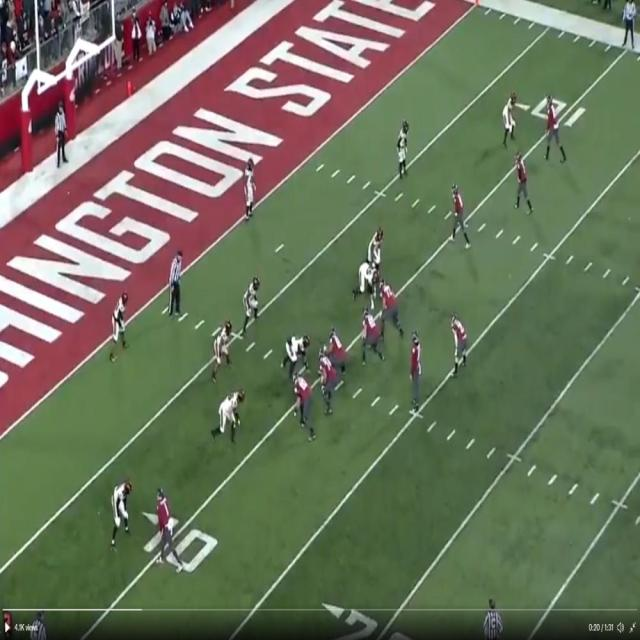center: (330, 328, 345, 378)
db: (152, 489, 175, 568), (244, 153, 259, 213), (111, 294, 125, 349), (398, 118, 409, 178), (503, 94, 515, 138)
lb: (215, 326, 233, 374), (246, 278, 262, 328)
qb: (408, 337, 420, 427)
skill: (452, 184, 472, 247), (115, 478, 134, 539), (544, 96, 561, 154), (449, 313, 468, 363), (515, 156, 531, 204)
